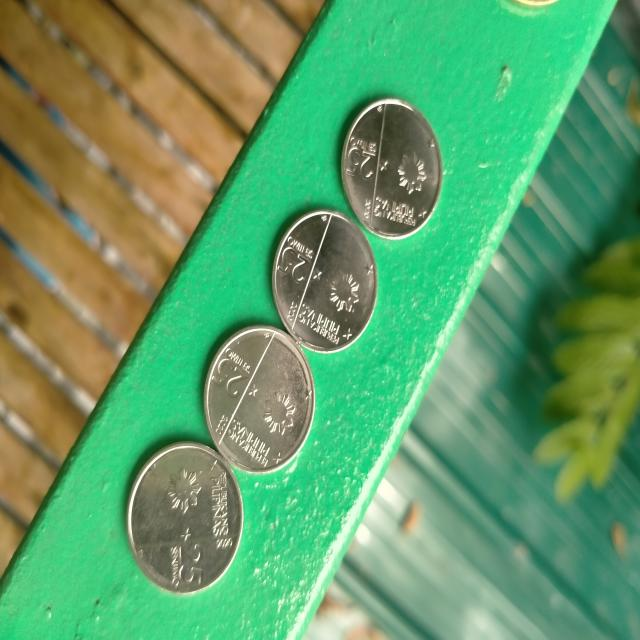25Cent_New_Front: (277, 231, 363, 341), (157, 460, 232, 586), (341, 136, 429, 228)
